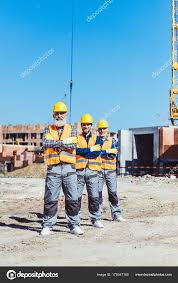helmet: (52, 100, 68, 112), (80, 112, 94, 123), (98, 118, 109, 128)
vest: (40, 125, 73, 166), (77, 134, 101, 171), (104, 138, 116, 169)
